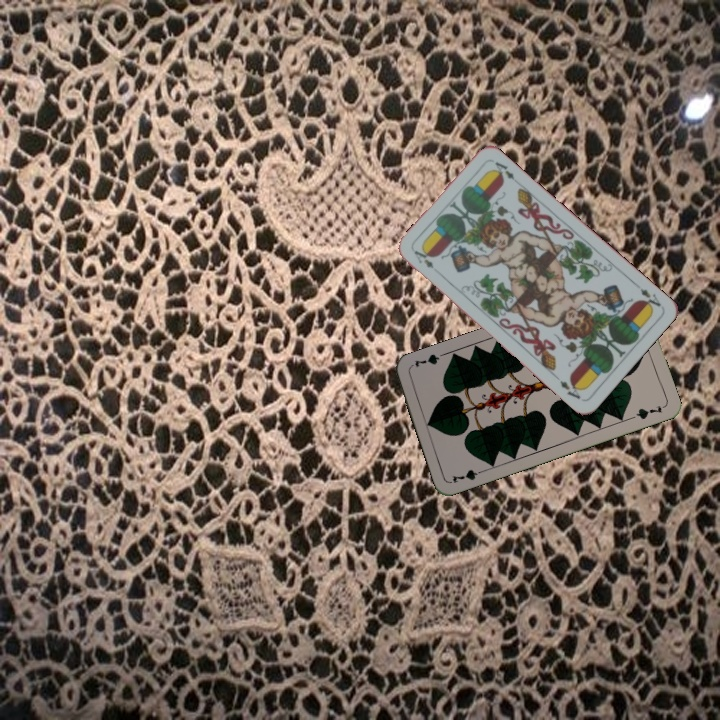EA: (636, 284, 664, 313), (410, 246, 436, 271)
G7: (448, 465, 488, 486)
